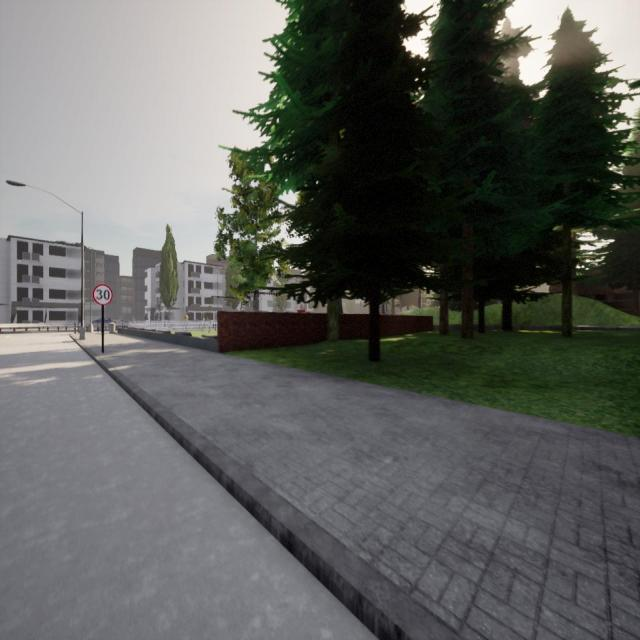Pedestrian: (184, 312, 188, 320)
Traffic_Signs: (93, 284, 113, 306)
Vehicle: (92, 316, 114, 323)
